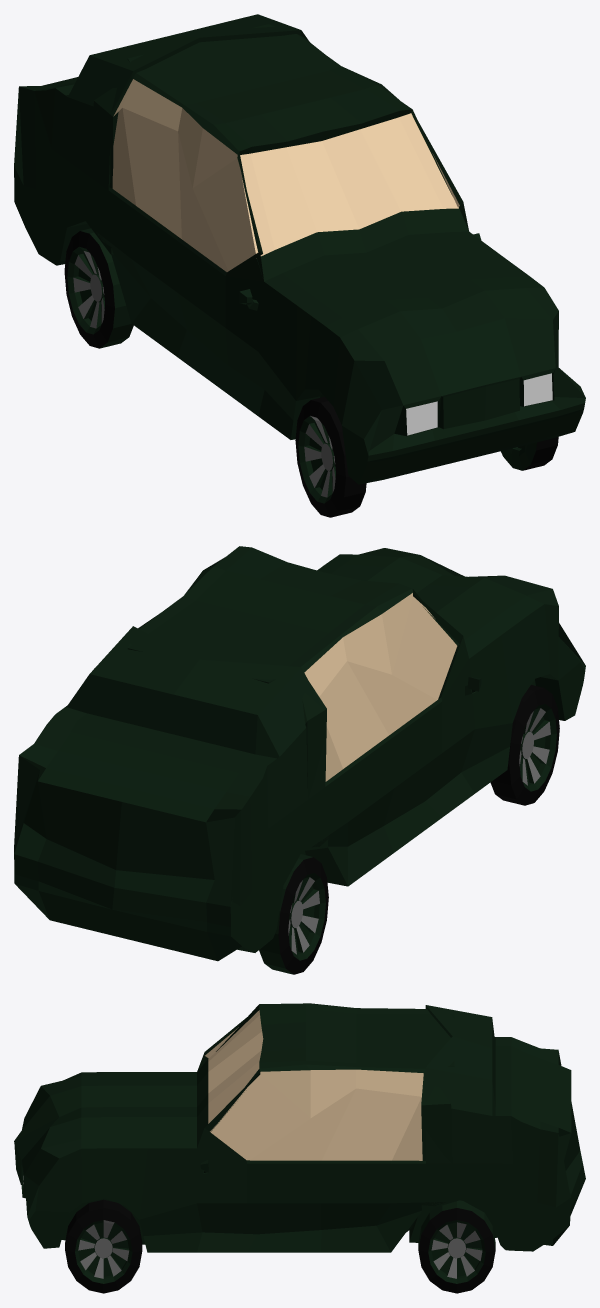
File: Broom3.fbx
3 renders of one model, top to bottom at view 1: azimuth 30°, elevation 25°; view 2: azimuth 150°, elevation 25°; view 3: azimuth 270°, elevation 25°, orthographic. The views are drawn at different scales.
Parts seen in each view (by area): view 1: Cube; view 2: Cube; view 3: Cube.
Part boxes in pixels (x1=…): Cube: x1=14, y1=14, x2=585, y2=517; Cube: x1=14, y1=546, x2=585, y2=974; Cube: x1=14, y1=1003, x2=585, y2=1293.
Size of the model in its own units: 0.2949 by 0.3374 by 0.7962.
